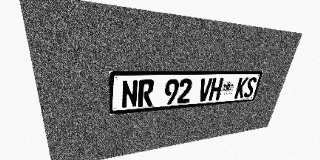2: (177, 79, 193, 104)
9: (163, 79, 180, 105)
H: (208, 78, 224, 101)
K: (234, 77, 249, 99)
N: (121, 80, 138, 109)
R: (138, 79, 154, 107)
S: (243, 77, 257, 98)
V: (197, 78, 213, 102)
